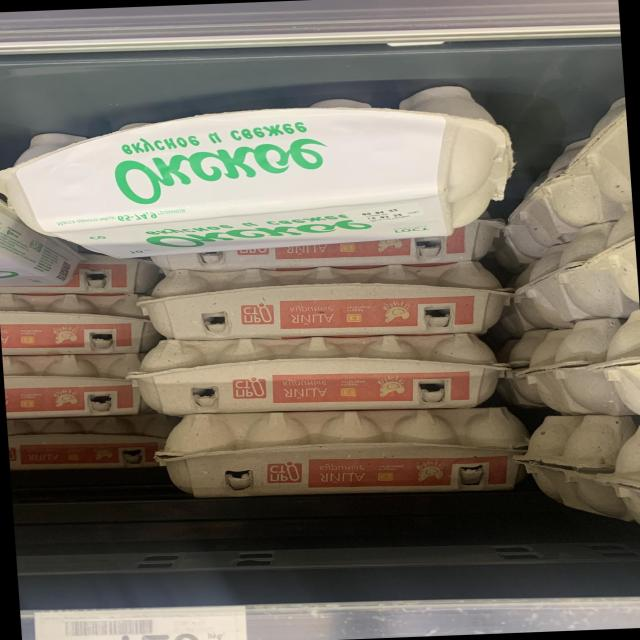organic waste: (0, 79, 533, 265), (151, 405, 531, 506), (126, 327, 506, 421), (128, 257, 508, 344), (0, 292, 160, 359), (7, 411, 171, 474), (2, 353, 136, 418)
